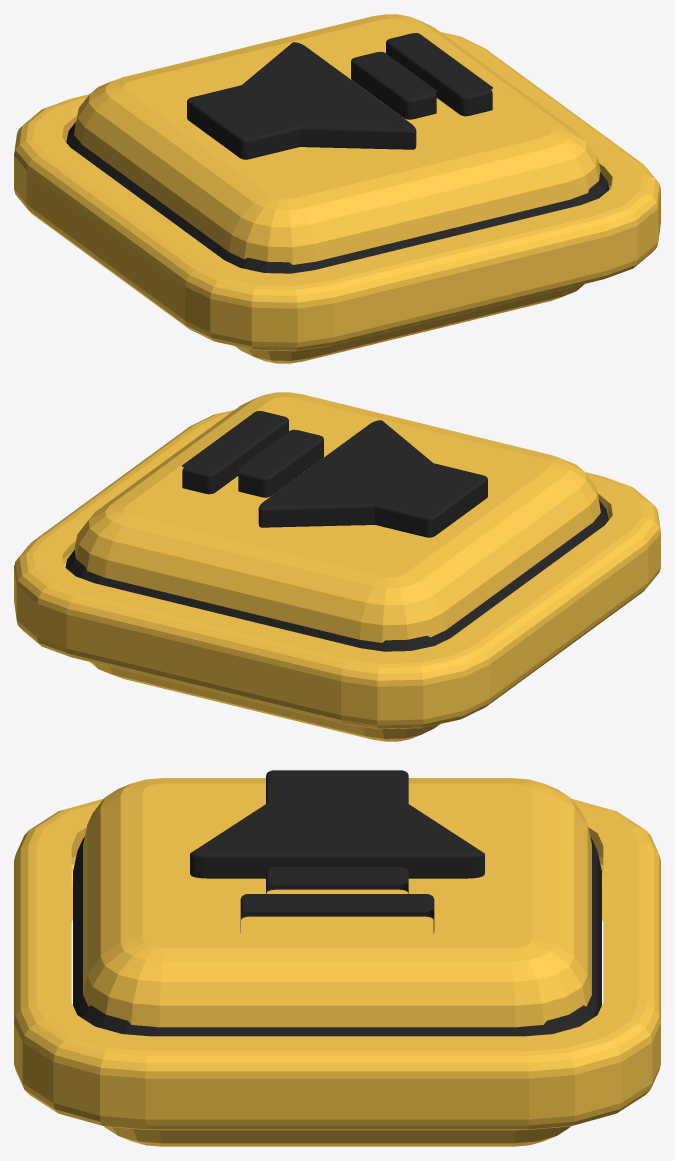
The model's file is Button_SoundOn.fbx.
3 renders of one model, top to bottom at view 1: azimuth 30°, elevation 25°; view 2: azimuth 150°, elevation 25°; view 3: azimuth 270°, elevation 25°, orthographic. The views are drawn at different scales.
Parts seen in each view (by area): view 1: Cube, Cube_12, Cube_1, Cube_10, Cube_3, Cube_2; view 2: Cube, Cube_12, Cube_1, Cube_10, Cube_3, Cube_2; view 3: Cube, Cube_12, Cube_1, Cube_10, Cube_3, Cube_2.
Boxes of the visible parts, x1,y1,x2,y2 form: Cube: [74, 14, 600, 363]; Cube_12: [14, 32, 660, 351]; Cube_1: [187, 42, 416, 159]; Cube_10: [66, 122, 609, 273]; Cube_3: [386, 33, 492, 116]; Cube_2: [351, 51, 436, 119]; Cube: [74, 392, 600, 741]; Cube_12: [14, 410, 660, 729]; Cube_1: [258, 420, 487, 537]; Cube_10: [65, 500, 608, 651]; Cube_3: [182, 411, 288, 494]; Cube_2: [238, 429, 323, 497]; Cube: [83, 778, 591, 1146]; Cube_12: [14, 798, 660, 1129]; Cube_1: [190, 770, 484, 878]; Cube_10: [73, 837, 601, 1036]; Cube_3: [240, 894, 434, 933]; Cube_2: [266, 867, 408, 893].
Size of the model in its own units: 254 by 94.09 by 254.
